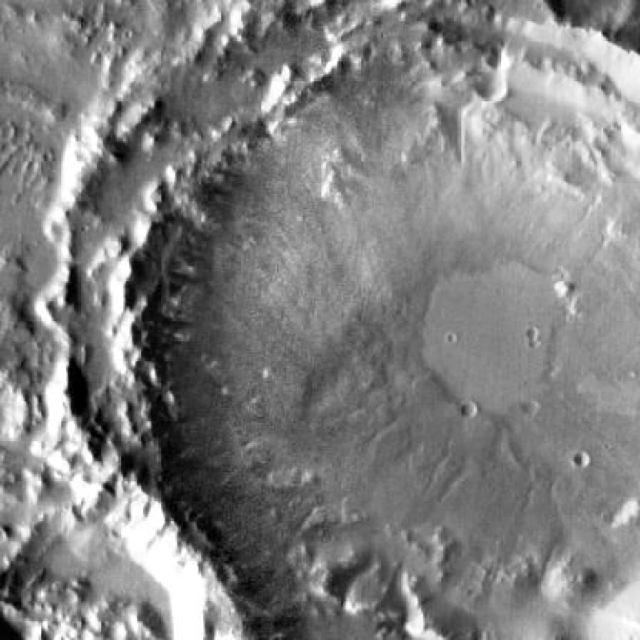crater: (69, 0, 640, 640), (0, 495, 245, 640), (0, 533, 23, 578), (451, 393, 469, 410), (386, 264, 402, 282)
